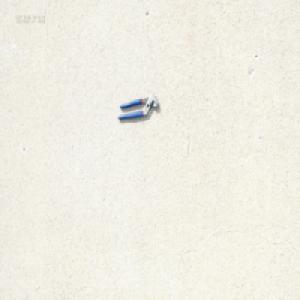Pliers: (117, 93, 160, 121)
